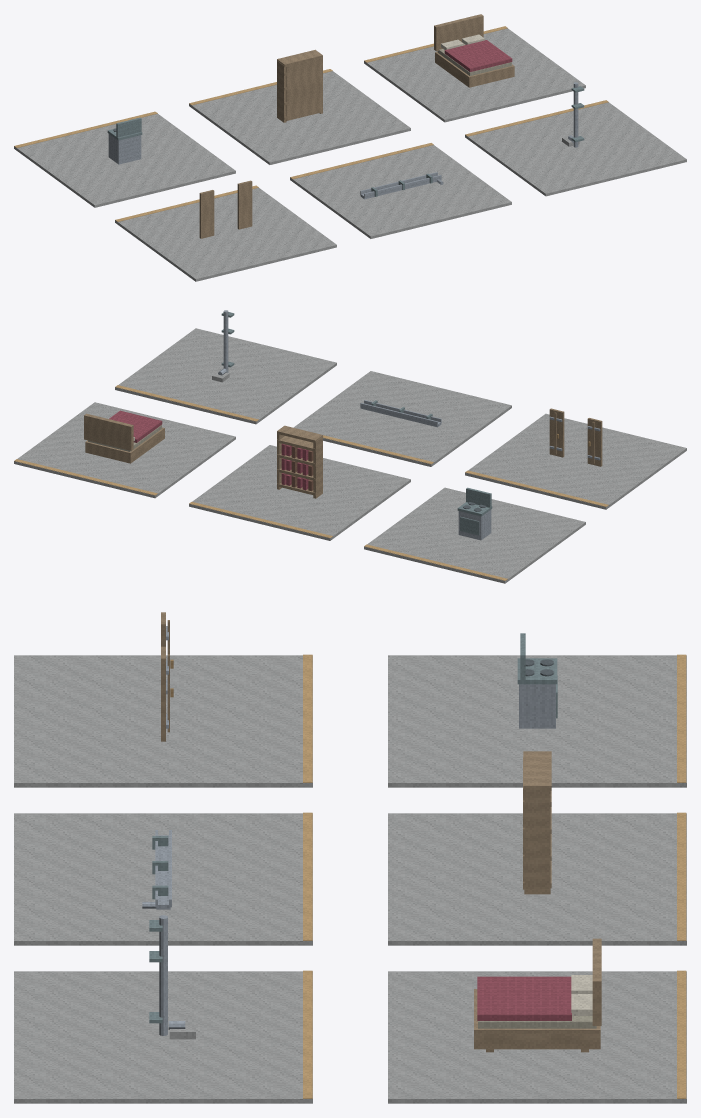
File: level_blockout_kit_house_p03.glb
3 renders of one model, top to bottom at view 1: azimuth 30°, elevation 25°; view 2: azimuth 150°, elevation 25°; view 3: azimuth 270°, elevation 25°, orthographic. The views are drawn at different scales.
Visible parts, largest first — view 1: level_blockout_kit_house_p03; view 2: level_blockout_kit_house_p03; view 3: level_blockout_kit_house_p03.
Part boxes in pixels (<box>): level_blockout_kit_house_p03: <box>14,14,686,281</box>; level_blockout_kit_house_p03: <box>14,310,686,583</box>; level_blockout_kit_house_p03: <box>14,612,686,1103</box>.
Size of the model in its own units: 19.65 by 2.54 by 12.6.
Materials: 11 (11 with a texture image).
